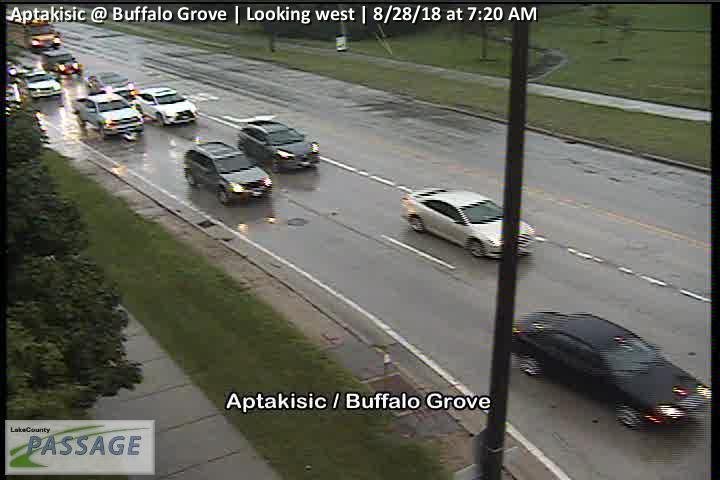Bus: (5, 15, 62, 50)
SUV: (183, 140, 274, 205), (237, 120, 321, 172)
Sedan: (507, 310, 712, 427), (399, 187, 536, 261), (75, 93, 144, 138), (135, 88, 199, 125), (87, 72, 134, 97), (20, 72, 61, 99)
Truck: (41, 50, 81, 76)
